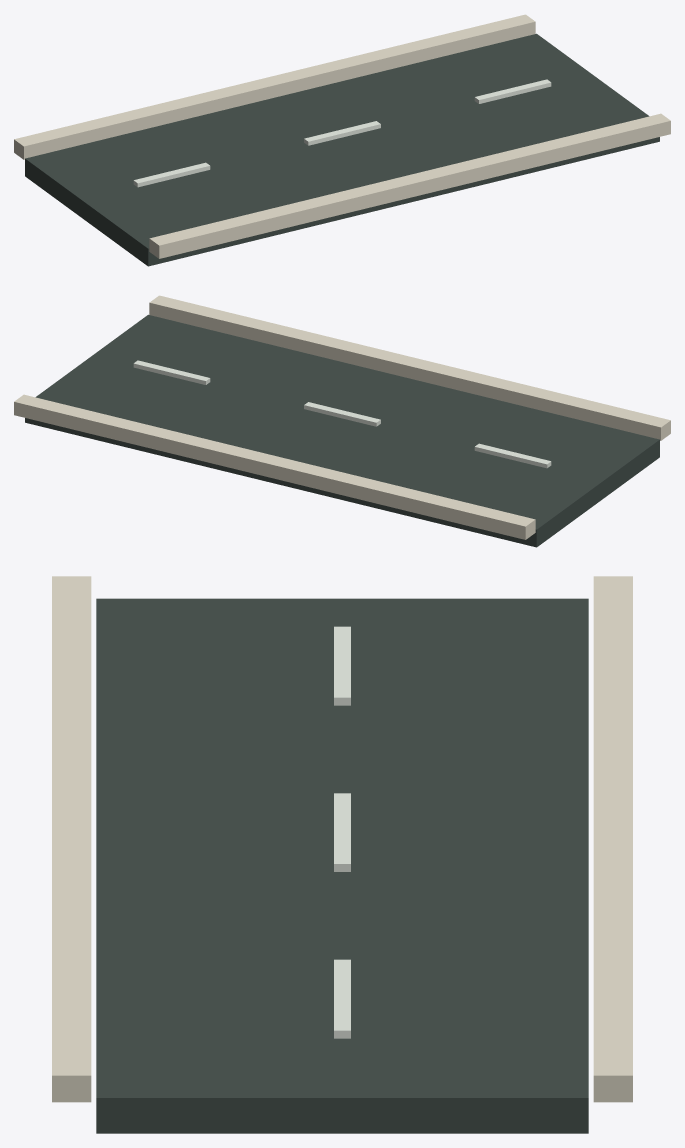
The model's file is road_straight.glb.
The picture shows the model from 3 angles, top to bottom: view 1: azimuth 30°, elevation 25°; view 2: azimuth 150°, elevation 25°; view 3: azimuth 270°, elevation 25°; orthographic projection. The views are drawn at different scales.
Parts seen in each view (by area): view 1: road, curb_right, curb_left, lane_0.8, lane_-0.8, lane_0; view 2: road, curb_left, curb_right, lane_0.8, lane_-0.8, lane_0; view 3: road, curb_left, curb_right, lane_-0.8, lane_0.8, lane_0.
Boxes of the visible parts, x1,y1,x2,y2 form: road: (25,33,659,266); curb_right: (149,113,670,258); curb_left: (14,14,535,159); lane_0.8: (474,79,551,103); lane_-0.8: (133,162,210,187); lane_0: (304,121,380,145); road: (25,314,659,547); curb_left: (14,394,535,539); curb_right: (149,295,670,440); lane_0.8: (133,360,210,384); lane_-0.8: (474,443,551,468); lane_0: (304,402,380,426); road: (96,598,588,1133); curb_left: (593,576,632,1102); curb_right: (52,576,91,1102); lane_-0.8: (334,626,350,705); lane_0.8: (334,959,350,1038); lane_0: (334,793,350,871).
Bounding box in the file's own units: 2.4 × 0.13 × 1.18.
